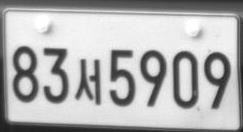0: (171, 50, 199, 109)
3: (43, 47, 69, 104)
5: (108, 49, 135, 107)
8: (12, 45, 39, 103)
9: (203, 51, 231, 109), (139, 49, 167, 106)
서: (74, 58, 101, 105)
